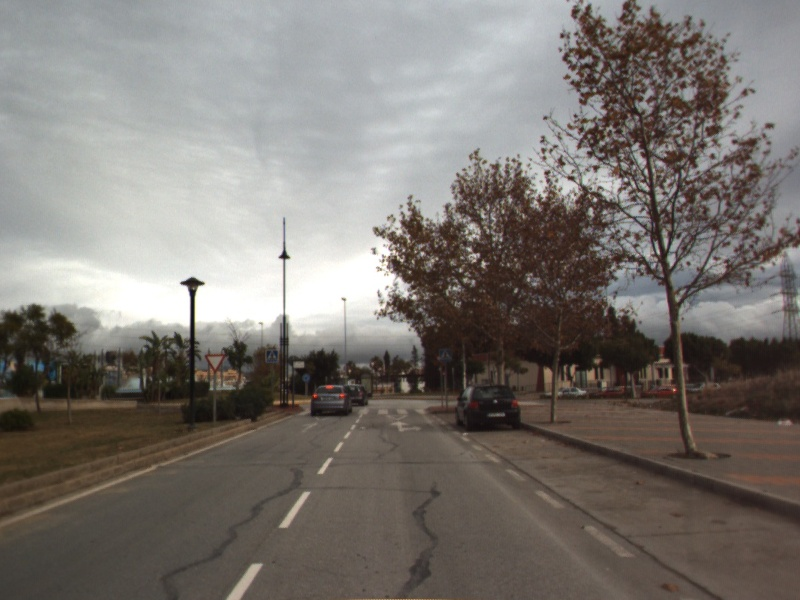STRAIGHT: (299, 420, 323, 434)
STRAIGHT_RIGHT: (387, 419, 424, 434)
